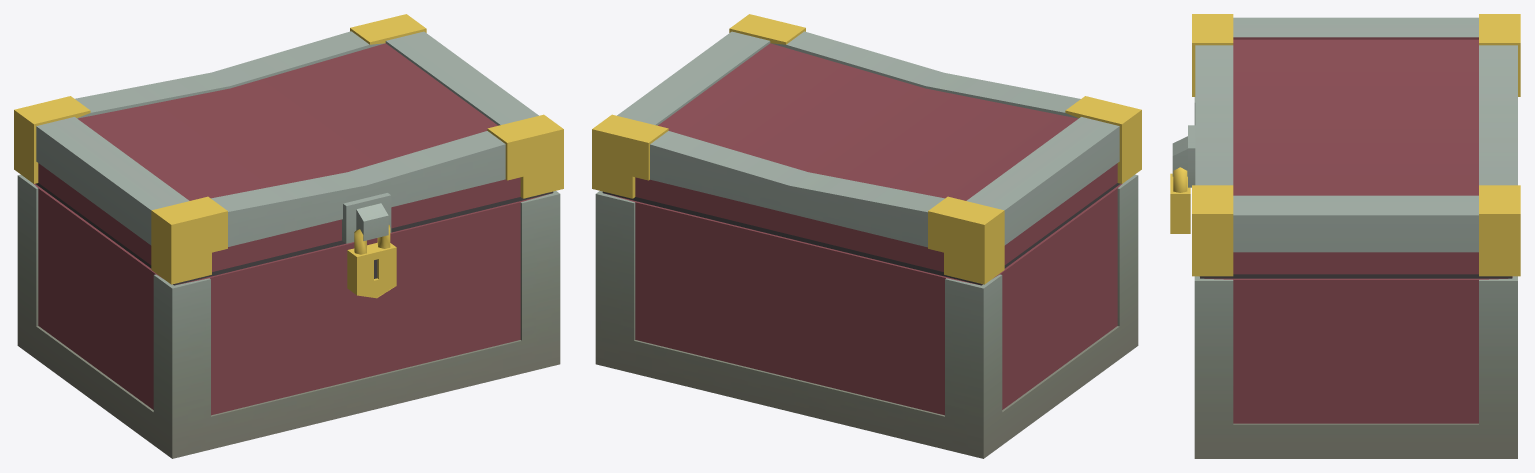
The model's file is SM_Chest_2_01.fbx.
The picture shows the model from 3 angles, left to right: view 1: azimuth 30°, elevation 25°; view 2: azimuth 150°, elevation 25°; view 3: azimuth 270°, elevation 25°; orthographic projection. The views are drawn at different scales.
Parts seen in each view (by area): view 1: SM_Chest_2_01; view 2: SM_Chest_2_01; view 3: SM_Chest_2_01.
Boxes of the visible parts, bbox=[...] form: SM_Chest_2_01: bbox=[14, 14, 563, 458]; SM_Chest_2_01: bbox=[592, 14, 1141, 458]; SM_Chest_2_01: bbox=[1170, 14, 1520, 458].
Bounding box in the file's own units: 86.5 × 49.6 × 63.98.
